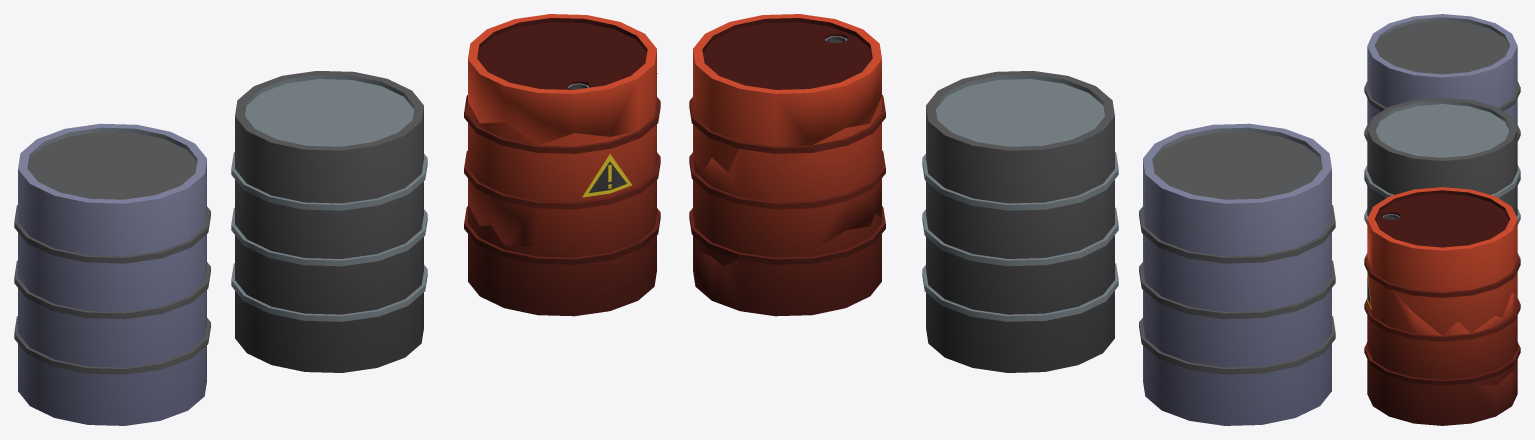
File: AllBarrels (1).fbx
The picture shows the model from 3 angles, left to right: view 1: azimuth 30°, elevation 25°; view 2: azimuth 150°, elevation 25°; view 3: azimuth 270°, elevation 25°; orthographic projection. The views are drawn at different scales.
Visible parts, largest first — view 1: BarrelGrey, BarrelBlack, BoomBarrelMid, BoomBarrelTop, BoomBarrelBottom; view 2: BarrelGrey, BarrelBlack, BoomBarrelTop, BoomBarrelMid, BoomBarrelBottom; view 3: BoomBarrelTop, BarrelBlack, BarrelGrey, BoomBarrelMid, BoomBarrelBottom.
Part boxes in pixels (x1,y1,x2,y2): BarrelGrey: [14, 123, 210, 425]; BarrelBlack: [231, 71, 427, 372]; BoomBarrelMid: [464, 96, 660, 257]; BoomBarrelTop: [467, 14, 660, 145]; BoomBarrelBottom: [464, 204, 656, 316]; BarrelGrey: [1139, 123, 1335, 425]; BarrelBlack: [922, 71, 1118, 372]; BoomBarrelTop: [689, 14, 881, 172]; BoomBarrelMid: [689, 95, 885, 266]; BoomBarrelBottom: [693, 206, 885, 316]; BoomBarrelTop: [1367, 187, 1520, 335]; BarrelBlack: [1364, 97, 1520, 297]; BarrelGrey: [1364, 14, 1520, 185]; BoomBarrelMid: [1364, 254, 1520, 394]; BoomBarrelBottom: [1364, 338, 1520, 425].
Size of the model in its own units: 263 by 90 by 72.75.
